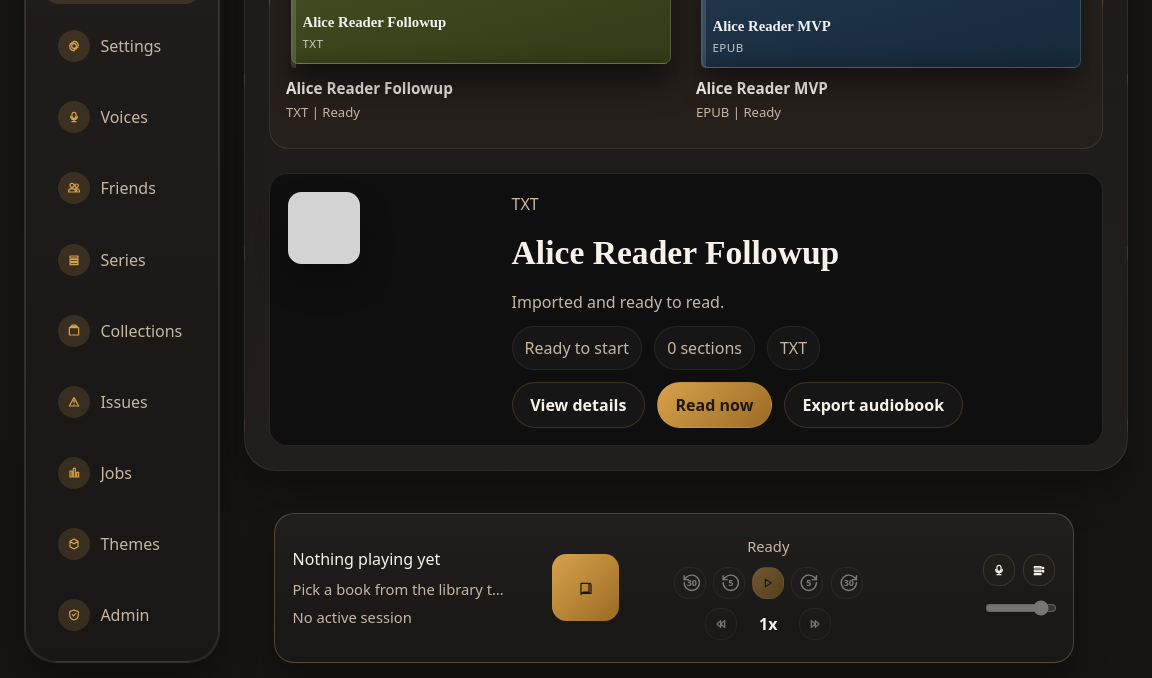
Test: LibraryPage › ignores stale preset responses when Alice switches export composers between documents
(page scrolled)
Click the button "Export audiobook" at (873, 405), box x1=784 y1=382 x2=963 y2=428
(page scrolled)
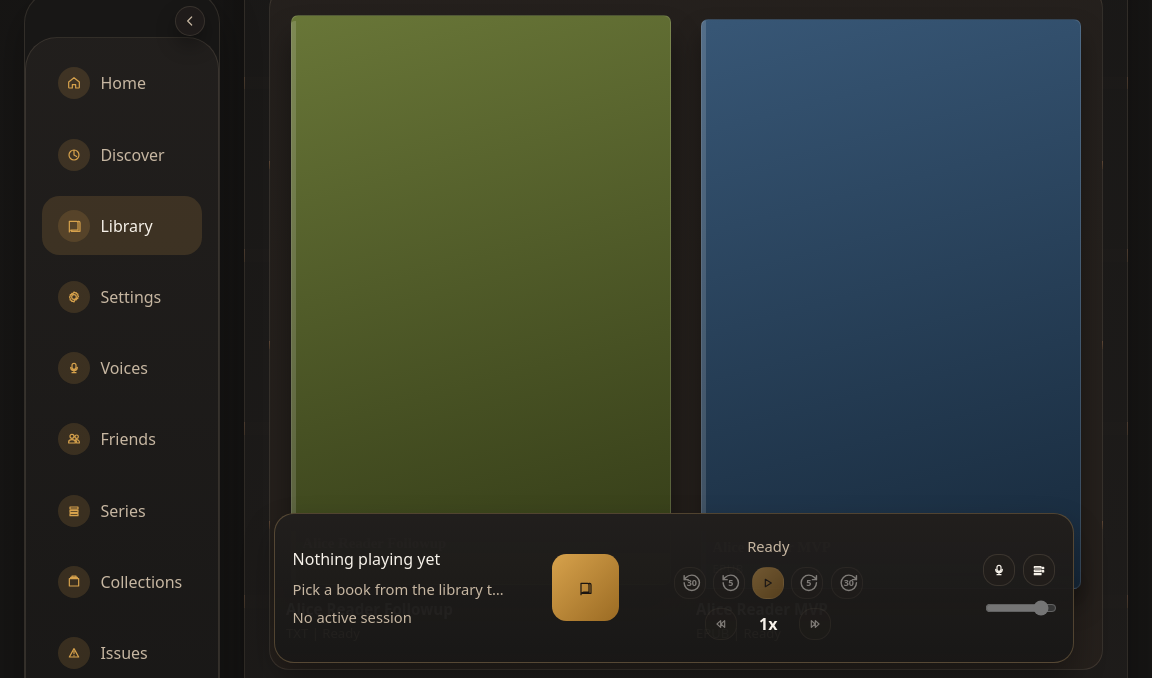
Click the button with aria-label "Open spotlight for Alice Reader Followup" at (481, 327), box x1=286 y1=10 x2=676 y2=644
(page scrolled)
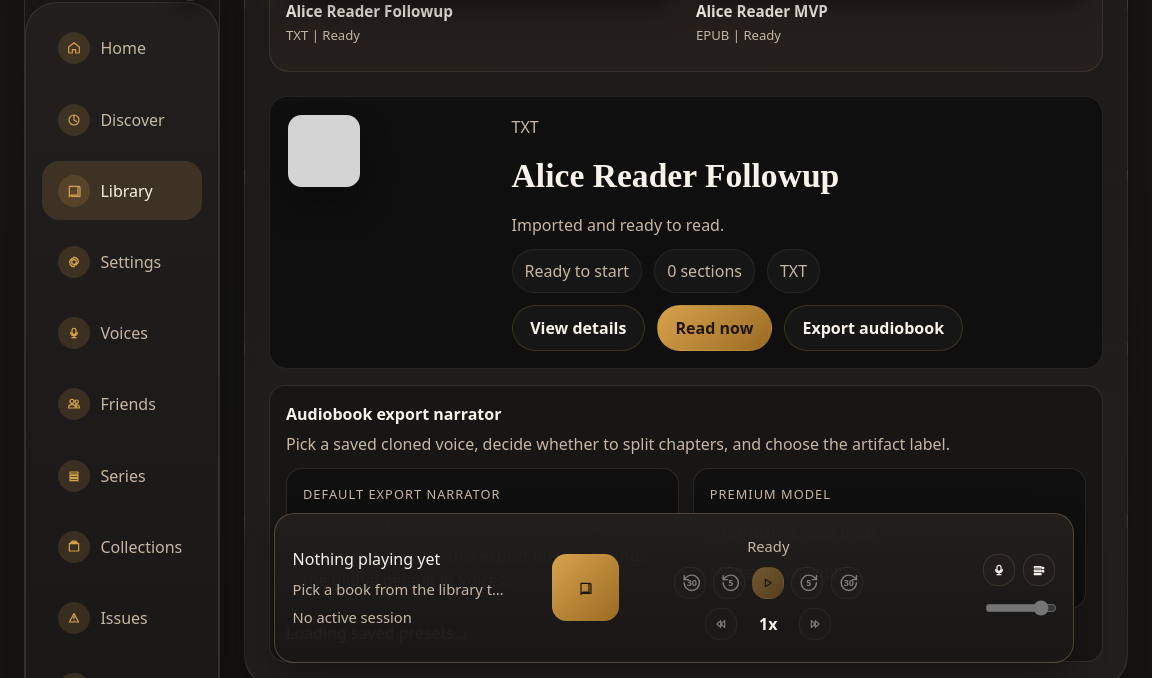
Click the button "Export audiobook" at (873, 328), box x1=784 y1=305 x2=963 y2=351
(page scrolled)
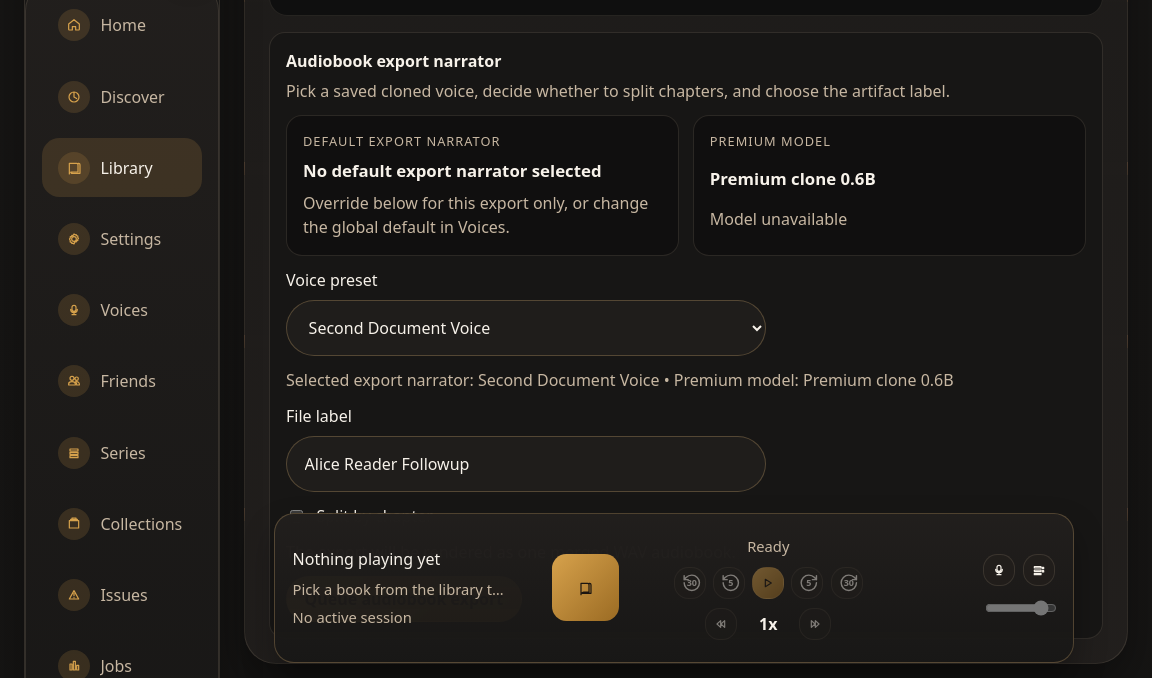
Now the dropdown labelled "Voice preset" shows "Second Document Voice", box x1=286 y1=300 x2=766 y2=356
